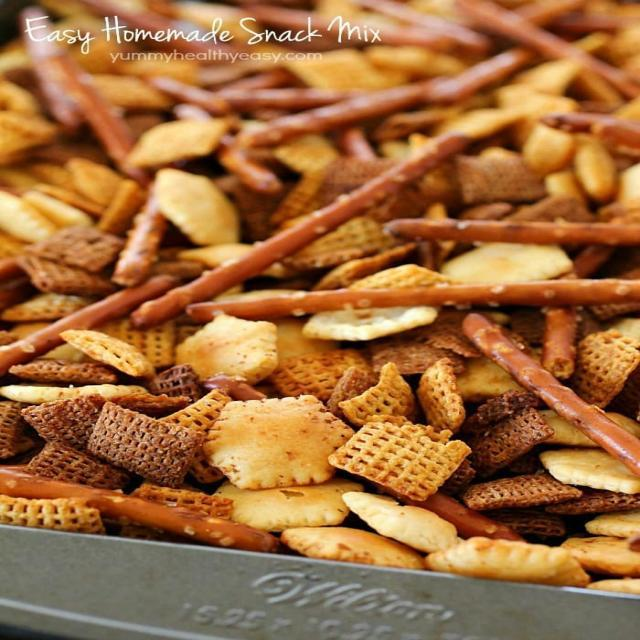Salatini: (13, 53, 640, 569)
